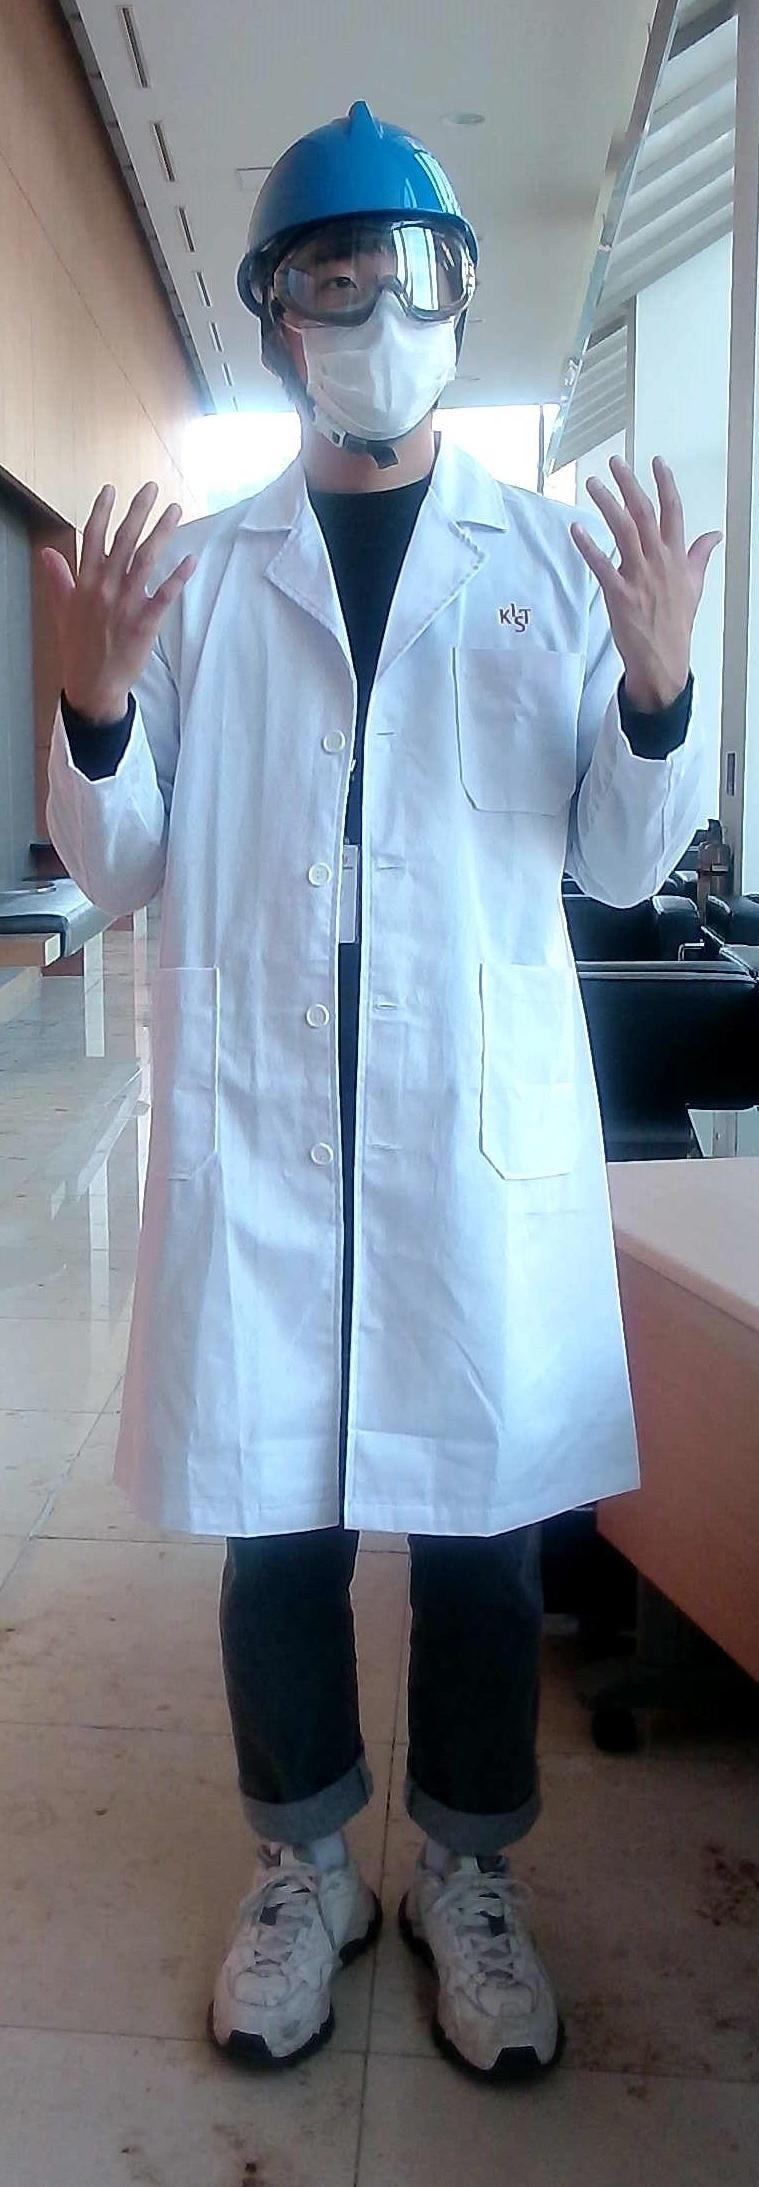lab_coat: (181, 516, 614, 1508)
